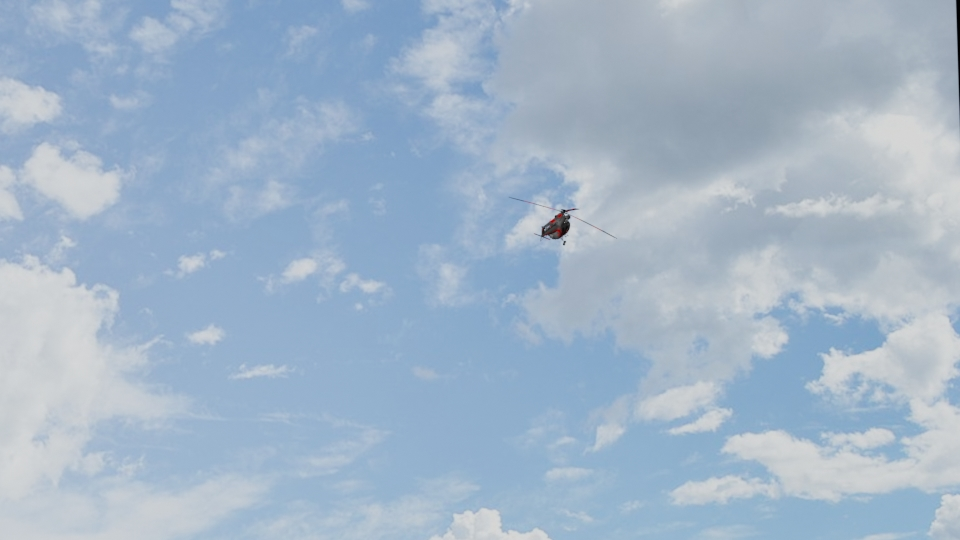heli: (534, 203, 578, 247)
